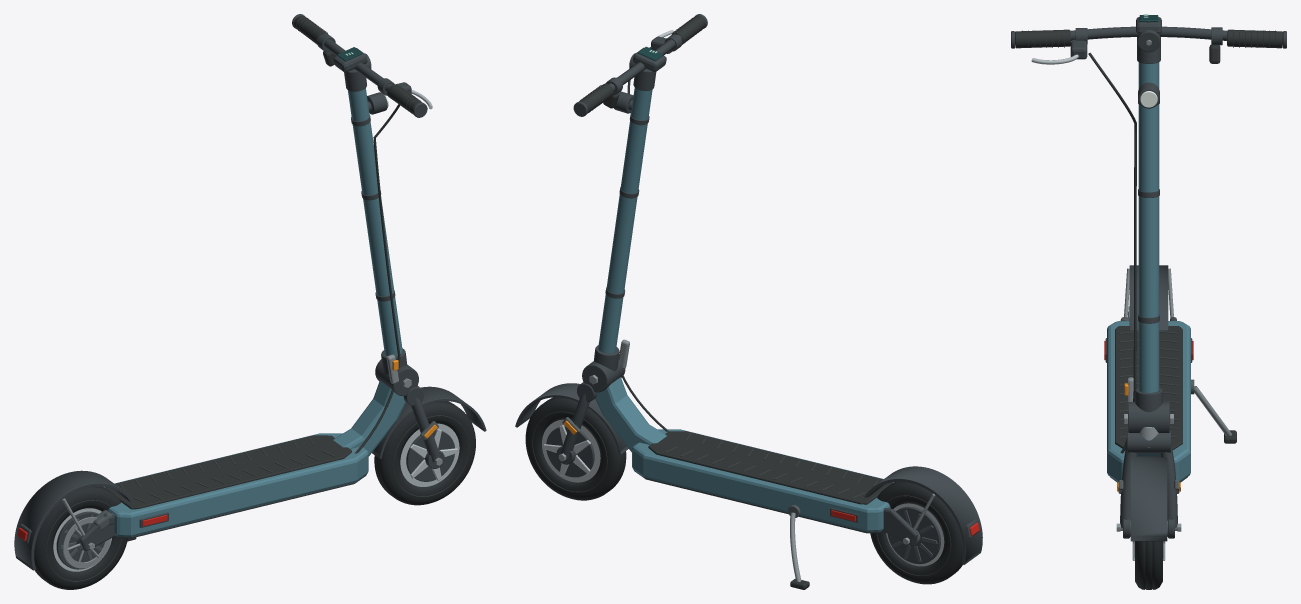
File: city-electric-kick-scooter.glb
3 renders of one model, left to right at view 1: azimuth 30°, elevation 25°; view 2: azimuth 150°, elevation 25°; view 3: azimuth 270°, elevation 25°, orthographic. The views are drawn at different scales.
Parts seen in each view (by area): view 1: Battery deck and underside assembly, Front wheel assembly, Footboard traction mat, Rear hub-motor wheel assembly, Steering stem and handlebar, Front and rear mudguards with lamps, Deck gooseneck and folding collar, Handle grips and riding controls, Rear swingarm and brake assembly, Connected brake cable and wire guides, Front fork assembly; view 2: Battery deck and underside assembly, Front wheel assembly, Footboard traction mat, Rear hub-motor wheel assembly, Steering stem and handlebar, Front and rear mudguards with lamps, Deck gooseneck and folding collar, Handle grips and riding controls, Front fork assembly, Rear swingarm and brake assembly, Deployed kickstand assembly, Connected brake cable and wire guides; view 3: Steering stem and handlebar, Front and rear mudguards with lamps, Footboard traction mat, Handle grips and riding controls, Battery deck and underside assembly, Front fork assembly, Deck gooseneck and folding collar, Front wheel assembly, Connected brake cable and wire guides, Deployed kickstand assembly.
Part boxes in pixels (<box>): Battery deck and underside assembly: <box>103,433,368,538</box>; Front wheel assembly: <box>374,401,475,505</box>; Footboard traction mat: <box>105,435,351,509</box>; Rear hub-motor wheel assembly: <box>34,486,127,589</box>; Steering stem and handlebar: <box>318,35,402,356</box>; Front and rear mudguards with lamps: <box>14,92,486,570</box>; Deck gooseneck and folding collar: <box>333,348,418,456</box>; Handle grips and riding controls: <box>292,14,432,117</box>; Rear swingarm and brake assembly: <box>62,510,115,568</box>; Connected brake cable and wire guides: <box>351,104,400,453</box>; Front fork assembly: <box>403,386,444,468</box>; Battery deck and underside assembly: <box>632,429,893,533</box>; Front wheel assembly: <box>525,397,626,500</box>; Footboard traction mat: <box>648,431,892,504</box>; Rear hub-motor wheel assembly: <box>870,482,962,584</box>; Steering stem and handlebar: <box>598,34,682,353</box>; Front and rear mudguards with lamps: <box>515,91,982,564</box>; Deck gooseneck and folding collar: <box>582,339,666,452</box>; Handle grips and riding controls: <box>573,14,707,116</box>; Front fork assembly: <box>556,382,596,464</box>; Rear swingarm and brake assembly: <box>882,508,918,545</box>; Deployed kickstand assembly: <box>788,505,809,589</box>; Connected brake cable and wire guides: <box>605,46,669,431</box>; Steering stem and handlebar: <box>1070,26,1227,392</box>; Front and rear mudguards with lamps: <box>1104,82,1193,541</box>; Footboard traction mat: <box>1115,326,1182,449</box>; Handle grips and riding controls: <box>1011,14,1286,64</box>; Battery deck and underside assembly: <box>1107,321,1190,482</box>; Front fork assembly: <box>1116,427,1181,538</box>; Deck gooseneck and folding collar: <box>1124,377,1173,456</box>; Front wheel assembly: <box>1120,520,1177,589</box>; Connected brake cable and wire guides: <box>1088,52,1159,453</box>; Deployed kickstand assembly: <box>1191,379,1236,443</box>.
Size of the model in its own units: 1.19 by 1.16 by 0.552.
